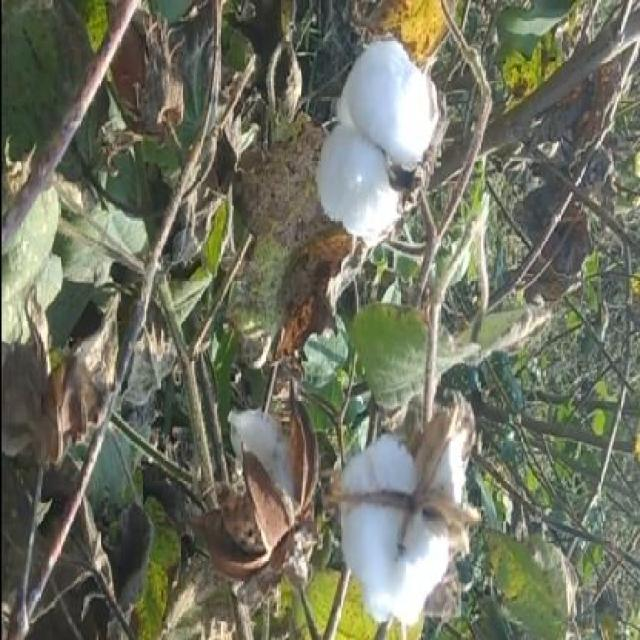cotton_ready: (308, 391, 486, 617), (285, 41, 457, 274)
